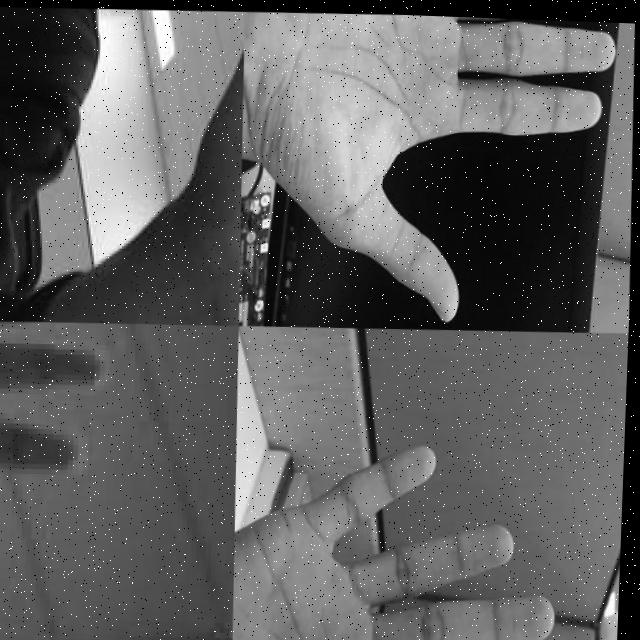hand: (235, 7, 624, 329), (232, 429, 569, 640), (61, 4, 249, 326), (0, 317, 123, 640)
